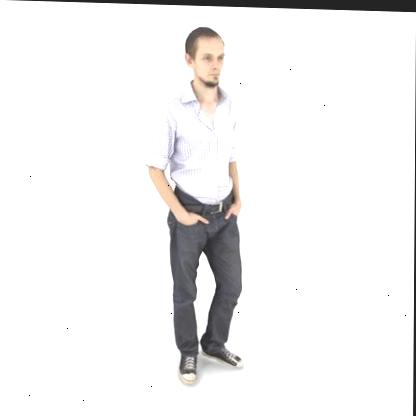person: (134, 19, 263, 395)
